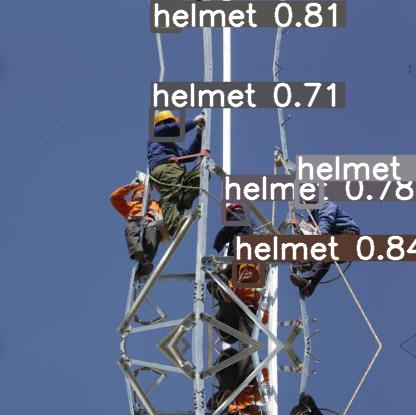helmet: (151, 107, 182, 139), (152, 1, 179, 30), (234, 260, 262, 285), (296, 180, 321, 206), (223, 200, 247, 223)
